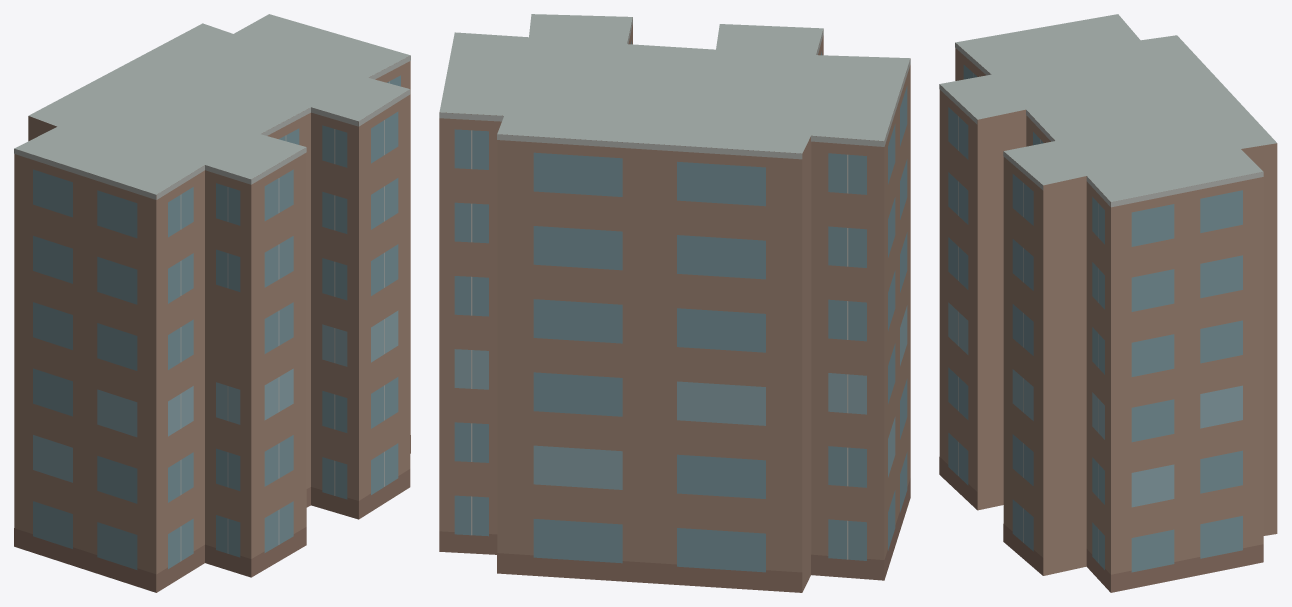
Rendered from survey-upis-32646684.glb.
3 renders of one model, left to right at view 1: azimuth 30°, elevation 25°; view 2: azimuth 150°, elevation 25°; view 3: azimuth 270°, elevation 25°, orthographic. The views are drawn at different scales.
Parts seen in each view (by area): view 1: survey-upis-32646684.tmp; view 2: survey-upis-32646684.tmp; view 3: survey-upis-32646684.tmp.
Boxes of the visible parts, x1,y1,x2,y2 form: survey-upis-32646684.tmp: (14, 14, 410, 592); survey-upis-32646684.tmp: (439, 14, 910, 592); survey-upis-32646684.tmp: (939, 14, 1277, 592).
Bounding box in the file's own units: 18.91 × 18.3 × 14.35.
